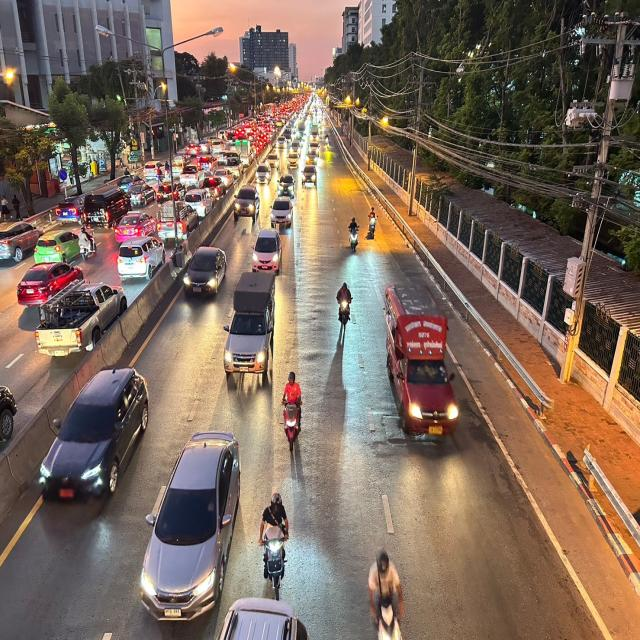bike: (251, 484, 298, 598), (277, 368, 307, 452), (329, 276, 354, 332), (346, 212, 362, 254)
car: (134, 423, 246, 622), (34, 360, 150, 504)
truck: (382, 277, 463, 438), (220, 267, 280, 380)
